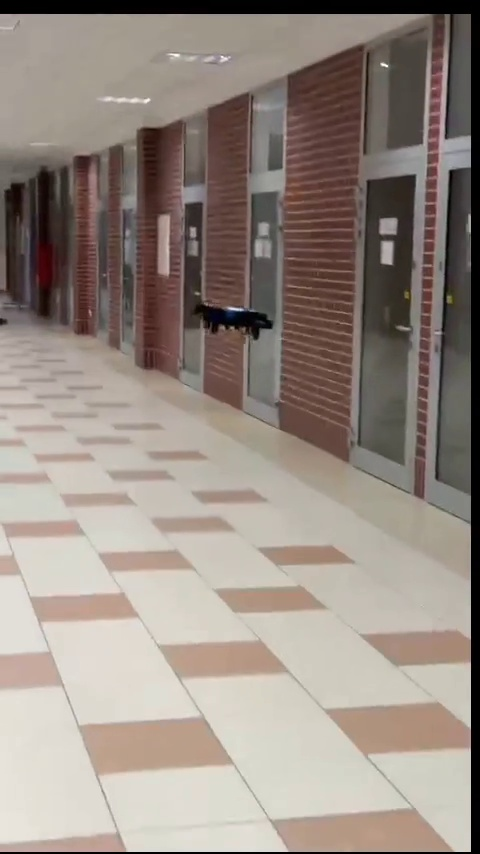drone: (192, 298, 271, 334)
